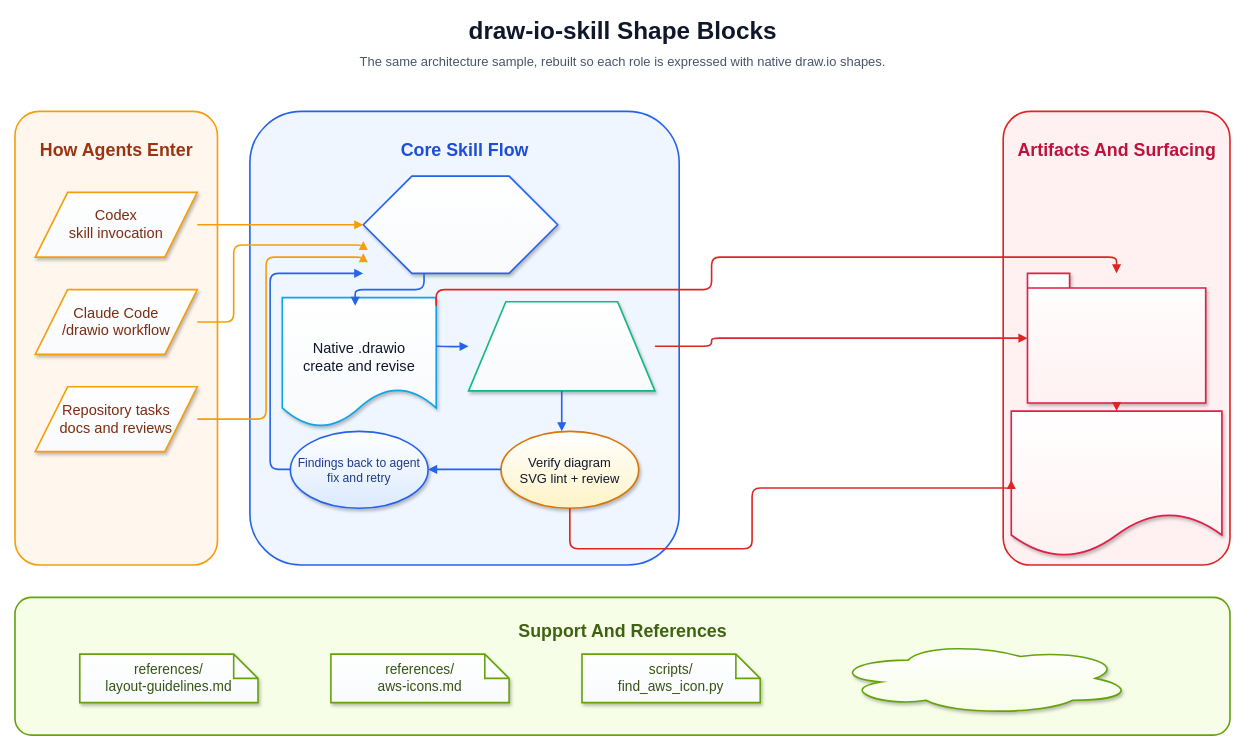
Image size: 1244x749. Some labels were removed from this diagram. Here are the shapes that lost their labels. From the top down, the centre of each, then its label:
At pixel 461 225: "Agent workflow SKILL.md best-of loop".
At pixel 562 347: "Export helper export-drawio.mjs".
At pixel 1117 339: "Repository artifacts *.drawio *.drawio.png / .svg / .pdf".
At pixel 1117 485: "Review surface lint report README / docs / slides".
At pixel 983 679: "Upstream ideas softaworks + jgraph".
